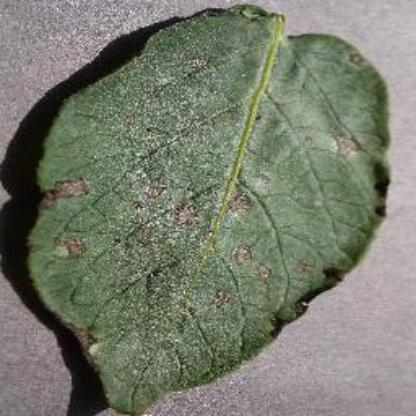Early-Blight: (29, 1, 388, 413)
